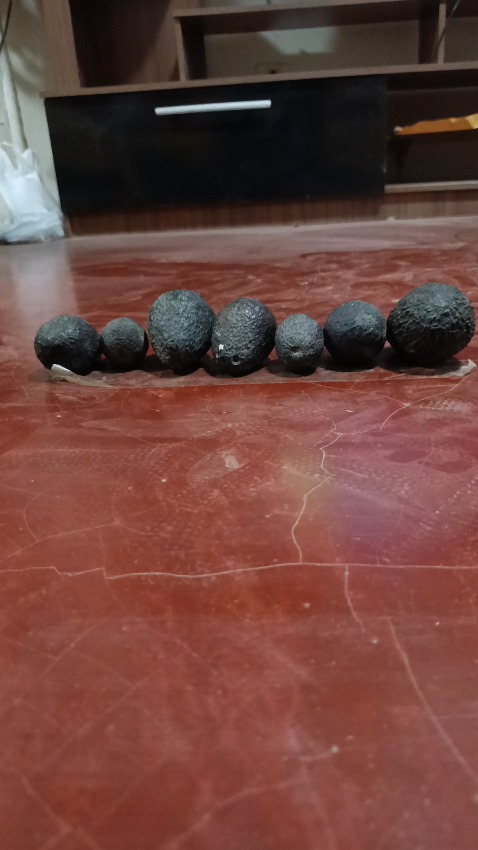Primera: (147, 288, 216, 372)
Segunda: (386, 283, 475, 366), (211, 297, 277, 377), (323, 300, 387, 367), (34, 315, 100, 375)
Tercera: (274, 313, 324, 375), (101, 317, 147, 370)
